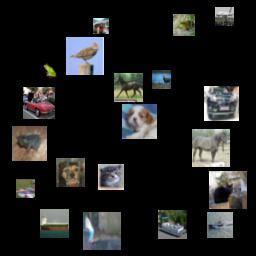airplane: (16, 179, 35, 198), (215, 7, 234, 26)
automobile: (204, 86, 239, 121), (23, 87, 55, 119)
bird: (83, 212, 121, 250), (66, 37, 104, 75)
cat: (209, 171, 247, 209), (98, 164, 124, 190)
deer: (152, 70, 171, 89)
dog: (122, 104, 157, 139), (56, 158, 85, 187)
frog: (12, 126, 47, 161), (173, 14, 195, 36), (41, 62, 57, 78)
ship: (158, 210, 187, 239), (40, 209, 69, 238), (207, 212, 233, 238)
truck: (93, 18, 109, 34)
